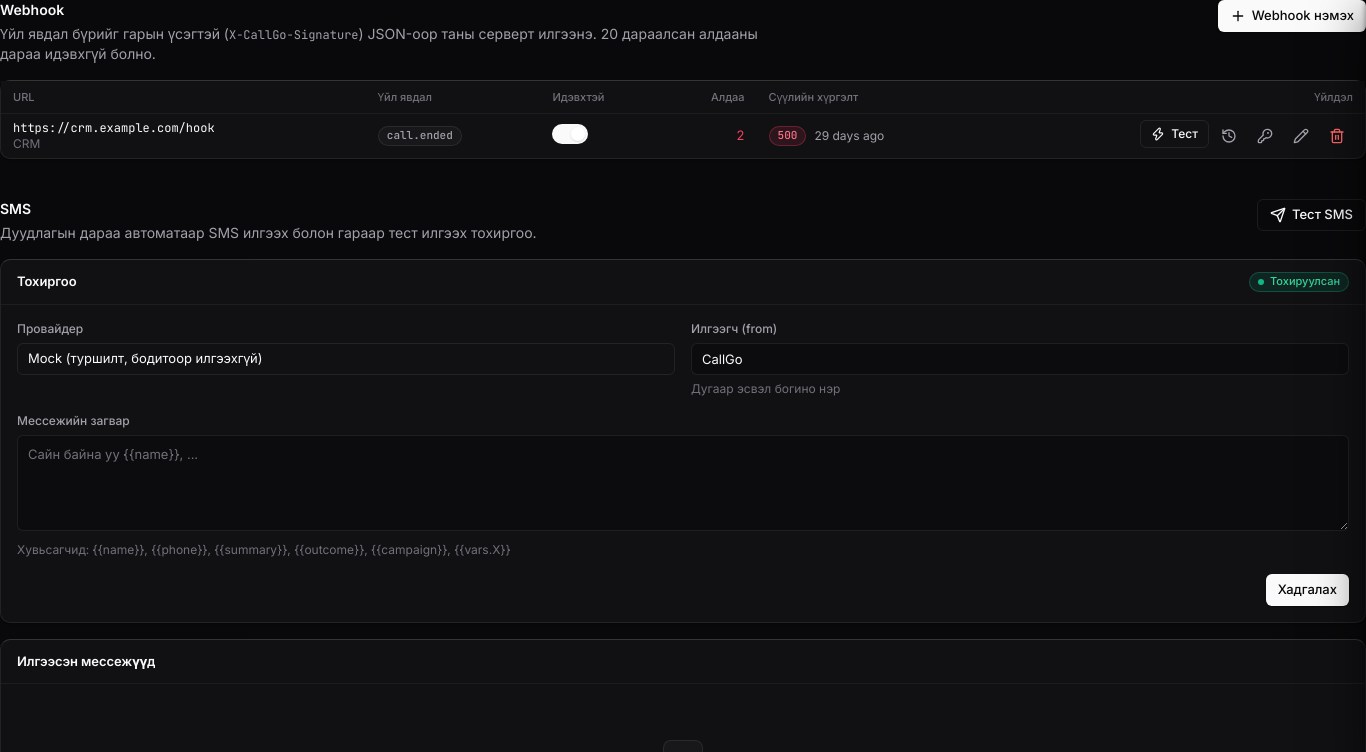
Test: IntegrationsTab webhooks › tests a webhook and shows the delivery result
Check: the text "https://crm.example.com/hook" is shown, box [13,120,215,136]
Click the button "Тест" at (1175, 134), box [1140,120,1209,148]
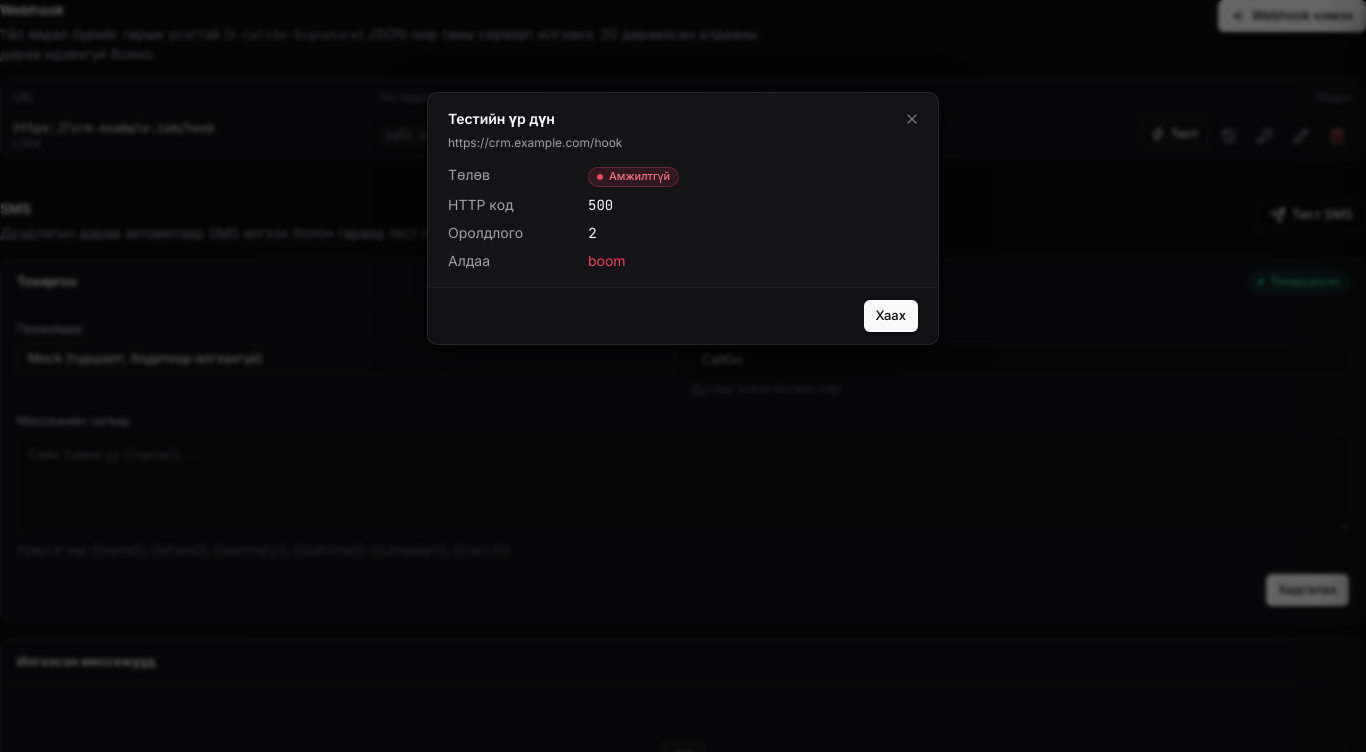
Check: the text "500" is shown, box [588,196,613,214]
Check: the text "boom" is shown, box [588,252,626,269]
